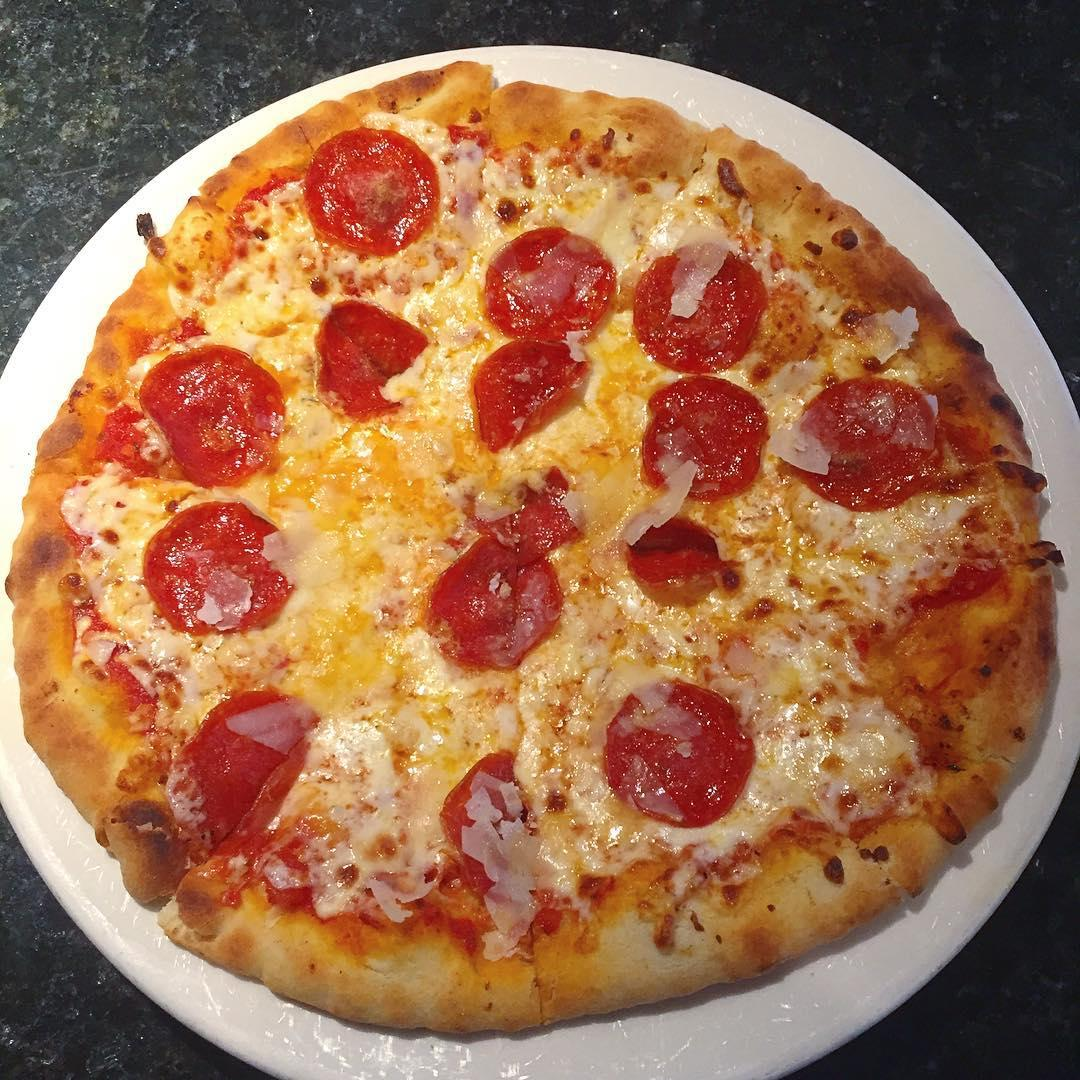Pepperoni: (430, 461, 576, 670), (603, 679, 754, 825), (779, 376, 942, 508), (130, 344, 282, 482), (138, 507, 296, 633), (179, 696, 317, 834), (305, 130, 437, 253), (634, 249, 769, 367), (634, 384, 762, 498), (482, 233, 615, 338), (439, 751, 527, 901), (322, 310, 424, 415), (470, 350, 591, 437), (619, 513, 725, 603)
Pizza: (24, 70, 1056, 1034)
